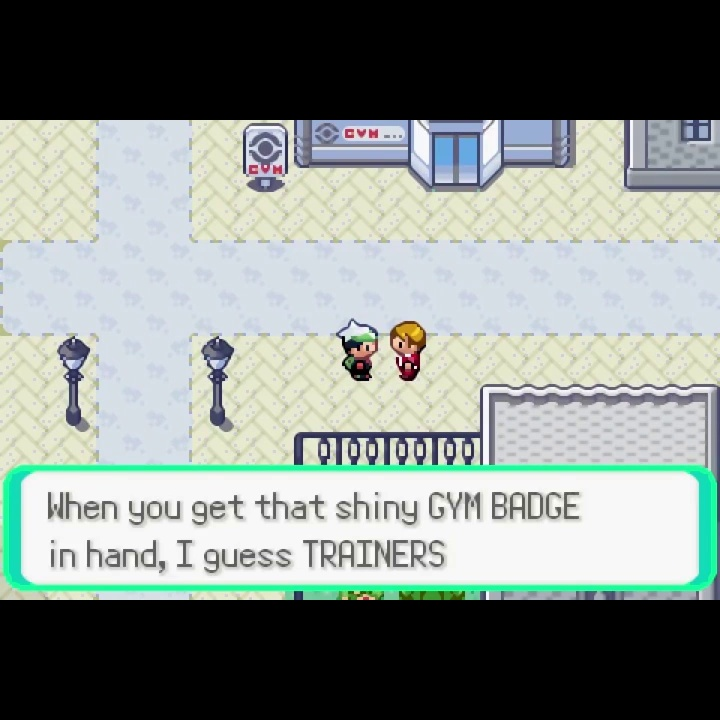gym: (292, 120, 579, 194)
house: (477, 381, 720, 465), (622, 119, 720, 194)
npc: (333, 317, 383, 384), (387, 319, 428, 386)
